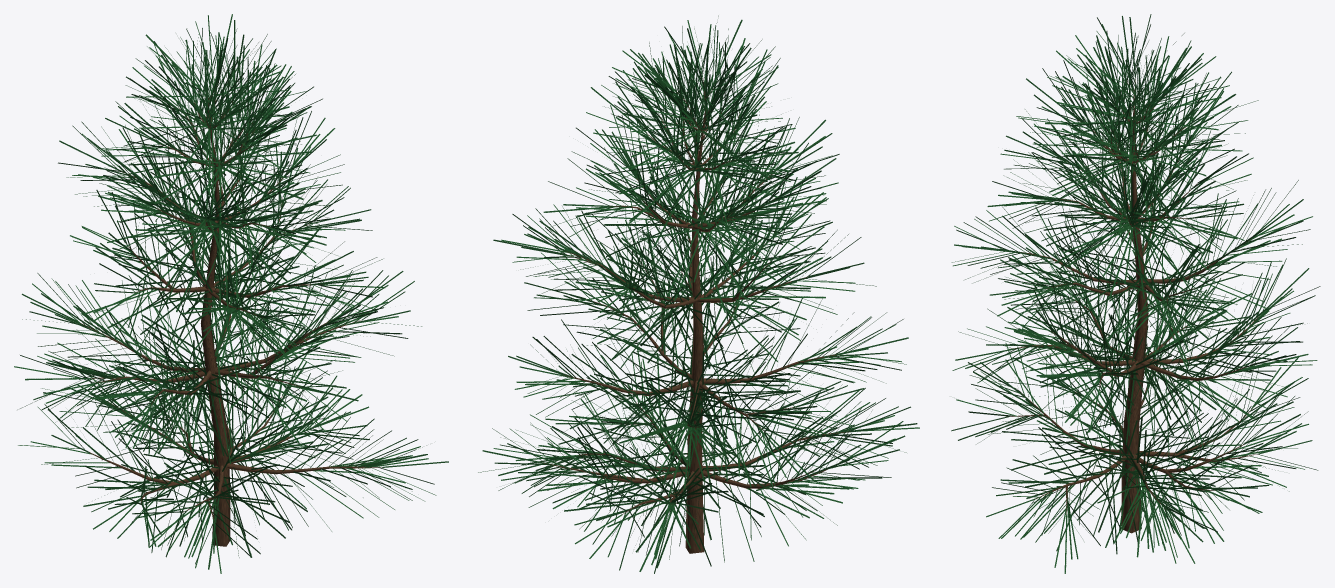
The model's file is pino.glb.
The picture shows the model from 3 angles, left to right: view 1: azimuth 30°, elevation 25°; view 2: azimuth 150°, elevation 25°; view 3: azimuth 270°, elevation 25°; orthographic projection. The views are drawn at different scales.
Parts seen in each view (by area): view 1: leaves, tree; view 2: leaves, tree; view 3: leaves, tree.
Part boxes in pixels (x1,y1,x2,y2): leaves: (14,14,448,573); tree: (80,85,381,546); leaves: (478,15,919,573); tree: (542,77,850,553); leaves: (951,14,1320,573); tree: (1006,77,1258,533).
Size of the model in its own units: 0.7256 by 1 by 0.6656.
2 materials, 2 textured.
